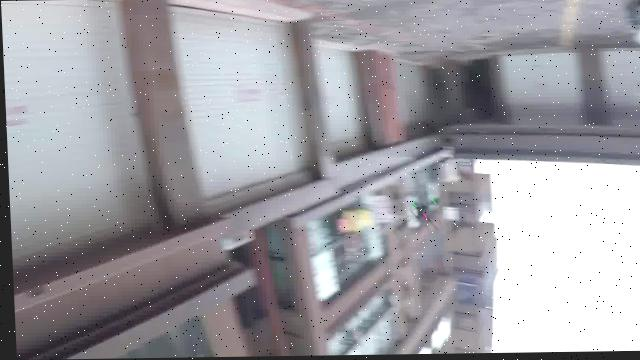drone: (388, 197, 447, 231)
